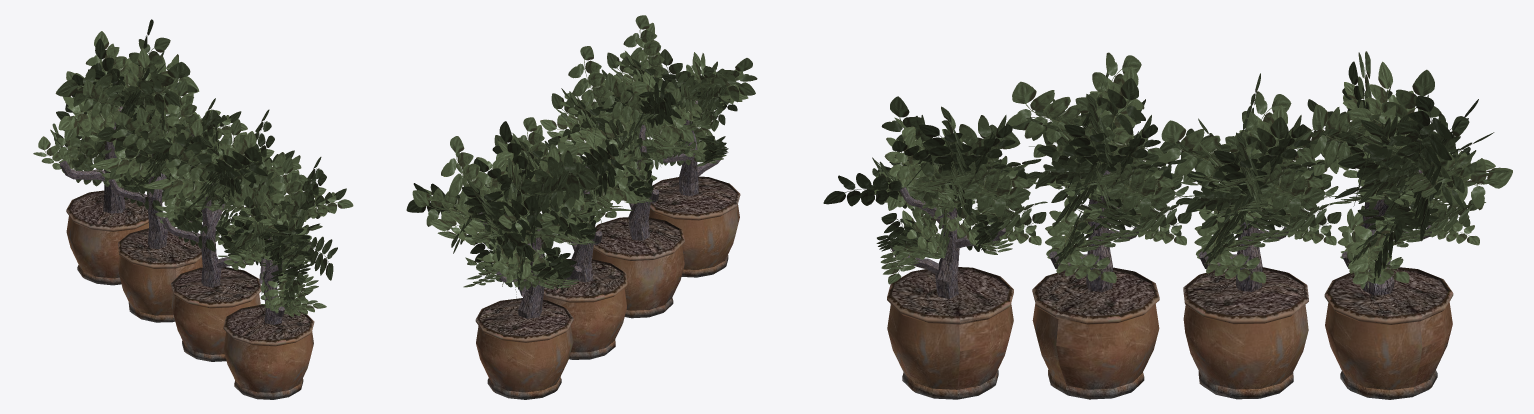
The model's file is planters.glb.
The picture shows the model from 3 angles, left to right: view 1: azimuth 30°, elevation 25°; view 2: azimuth 150°, elevation 25°; view 3: azimuth 270°, elevation 25°; orthographic projection. The views are drawn at different scales.
Bounding box in the file's own units: 1.36 × 1.66 × 3.11.
3 materials, 3 textured.
